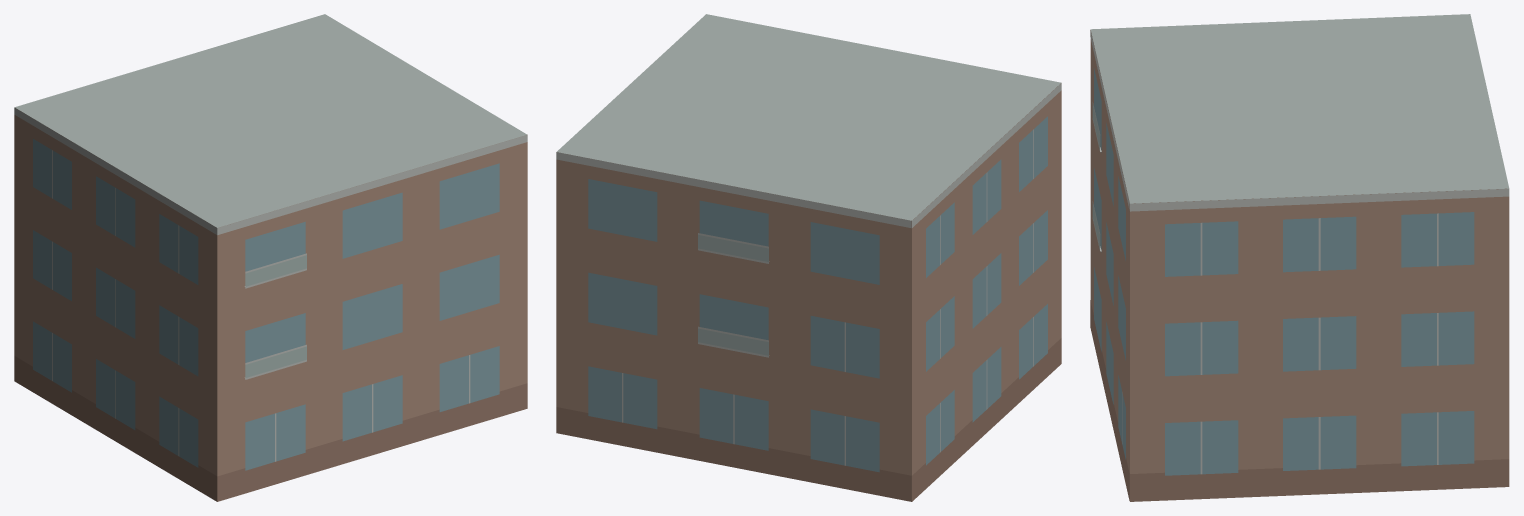
Rendered from survey-upis-32726598.glb.
3 views of the same model, side by side, from view 1: azimuth 30°, elevation 25°; view 2: azimuth 150°, elevation 25°; view 3: azimuth 270°, elevation 25° (orthographic). The views are drawn at different scales.
Parts seen in each view (by area): view 1: survey-upis-32726598.tmp; view 2: survey-upis-32726598.tmp; view 3: survey-upis-32726598.tmp.
Part boxes in pixels (bbox=[...]): survey-upis-32726598.tmp: bbox=[14, 14, 527, 501]; survey-upis-32726598.tmp: bbox=[556, 14, 1061, 501]; survey-upis-32726598.tmp: bbox=[1090, 14, 1509, 501].
Bounding box in the file's own units: 12.48 × 9.15 × 11.65.
